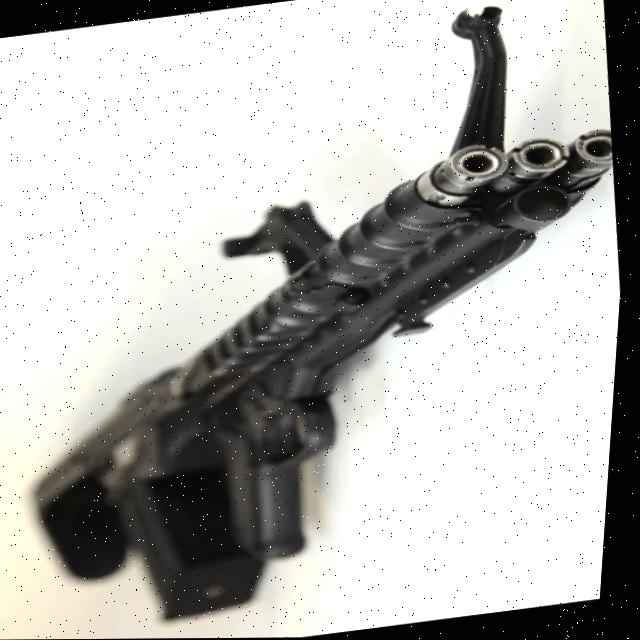firearm: (0, 127, 633, 634)
